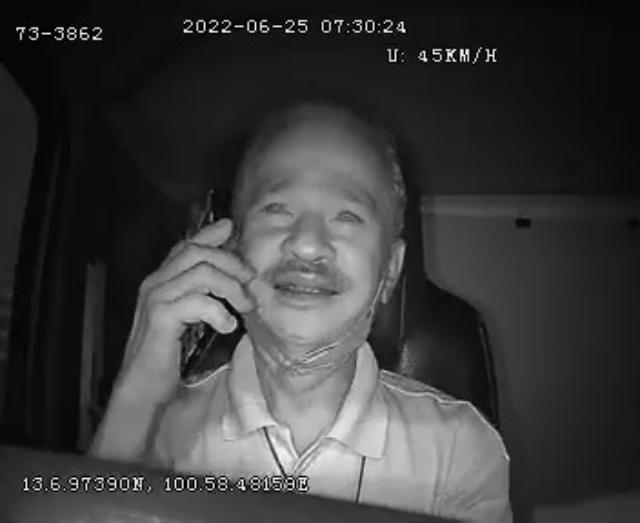PhoneUse: (173, 184, 231, 374)
SafeDriving: (321, 192, 372, 236), (253, 188, 301, 224)
